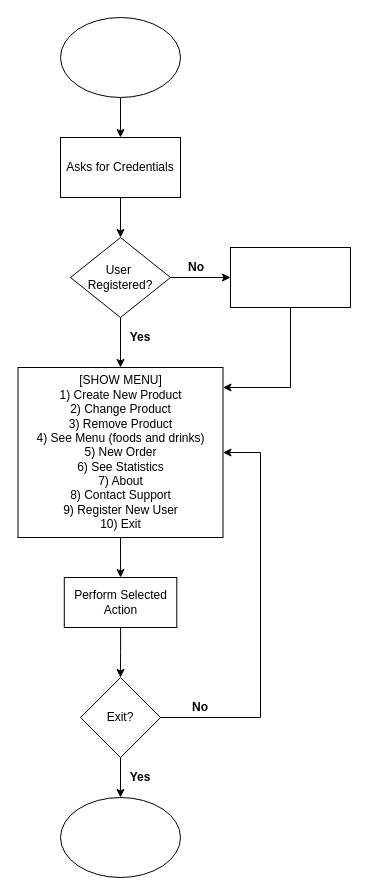
Some shapes in this 368 by 895 pixel diagram are drawn without their labels. The shapes that lost their labels are listed below. From the top down, each one's centre as x and y in pixels, then its label:
(120,57): App Starts
(290,277): Register New User
(120,837): App Ends
